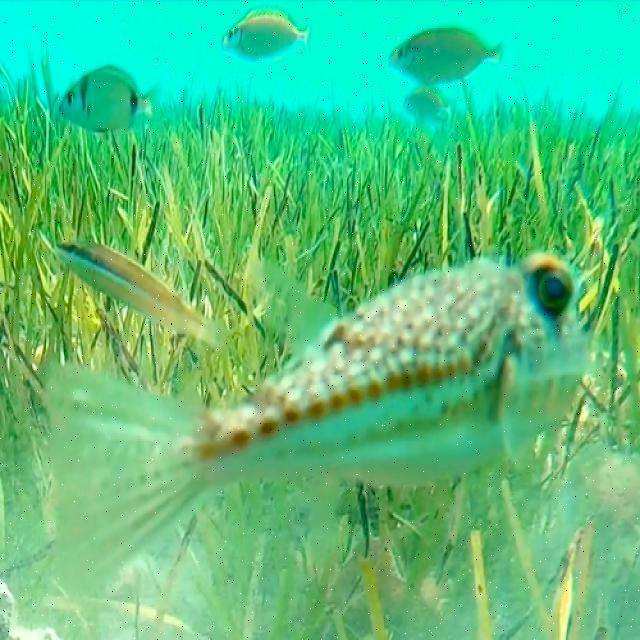Balik: (45, 254, 591, 585), (57, 242, 221, 345), (388, 27, 510, 85), (59, 66, 156, 133), (222, 9, 309, 62), (404, 88, 450, 125)
